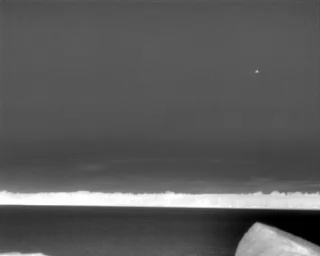BIRD: (253, 67, 261, 76)
